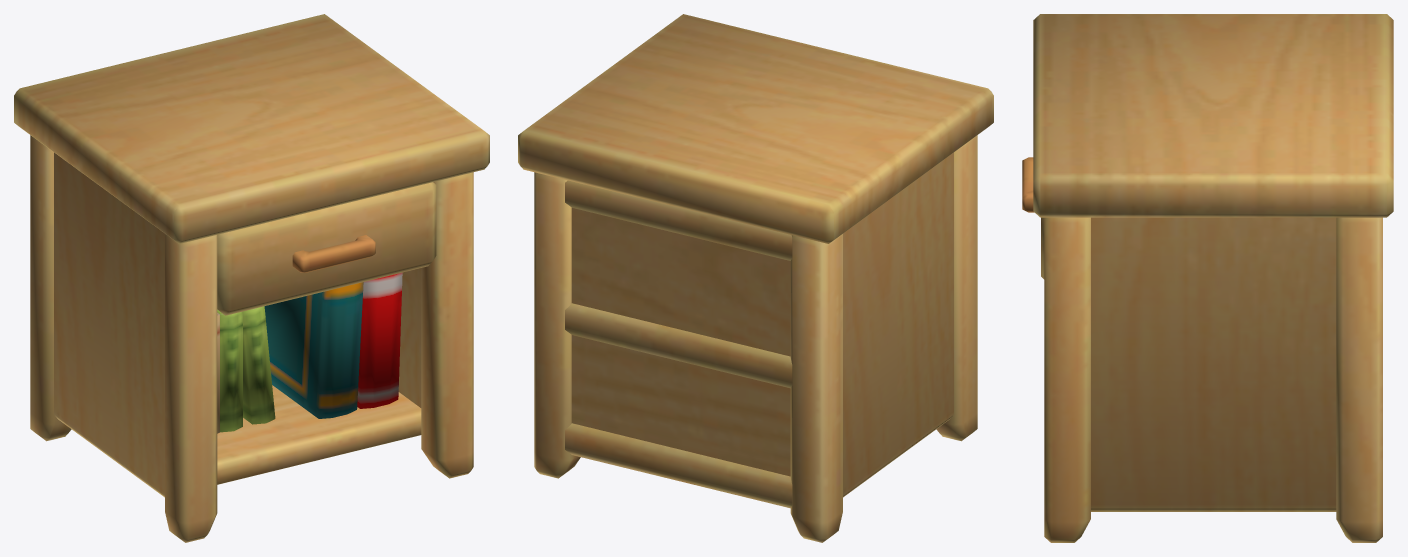
Rendered from woodentablesmall.glb.
The picture shows the model from 3 angles, left to right: view 1: azimuth 30°, elevation 25°; view 2: azimuth 150°, elevation 25°; view 3: azimuth 270°, elevation 25°; orthographic projection. The views are drawn at different scales.
Parts seen in each view (by area): view 1: backbarA_low__mReBody; view 2: backbarA_low__mReBody; view 3: backbarA_low__mReBody.
Boxes of the visible parts, left/top/right/bottom form: backbarA_low__mReBody: left=14, top=14, right=489, bottom=542; backbarA_low__mReBody: left=518, top=14, right=993, bottom=542; backbarA_low__mReBody: left=1022, top=14, right=1393, bottom=542.
Size of the model in its own units: 8.27 by 8.6 by 7.76.
Materials: 1 (1 with a texture image).
